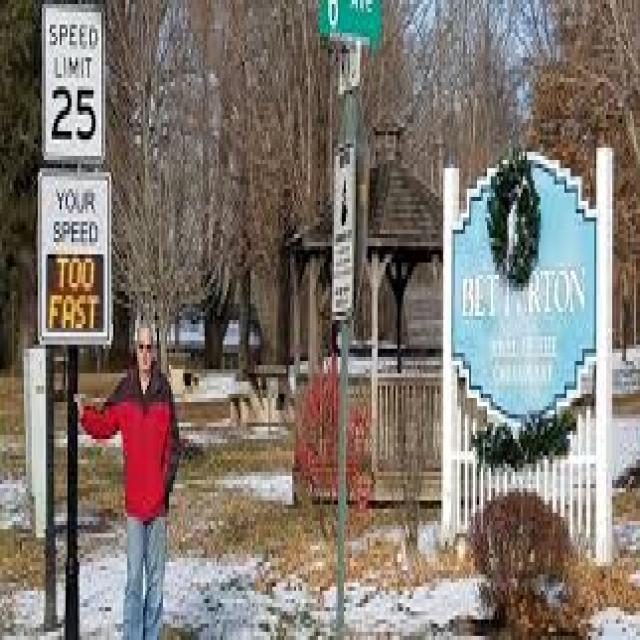speedLimit25: (44, 12, 101, 160)
